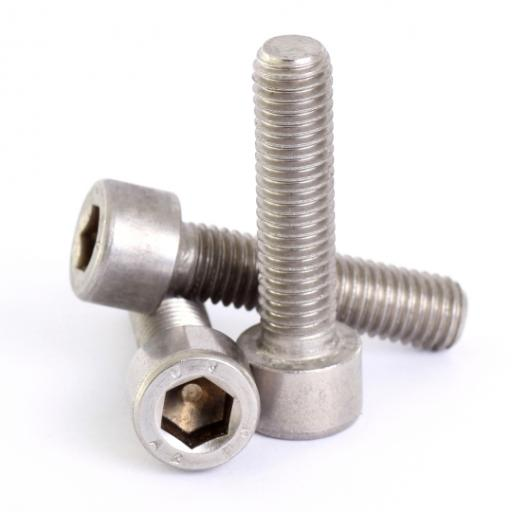Hex-Allen: (132, 325, 260, 476)
